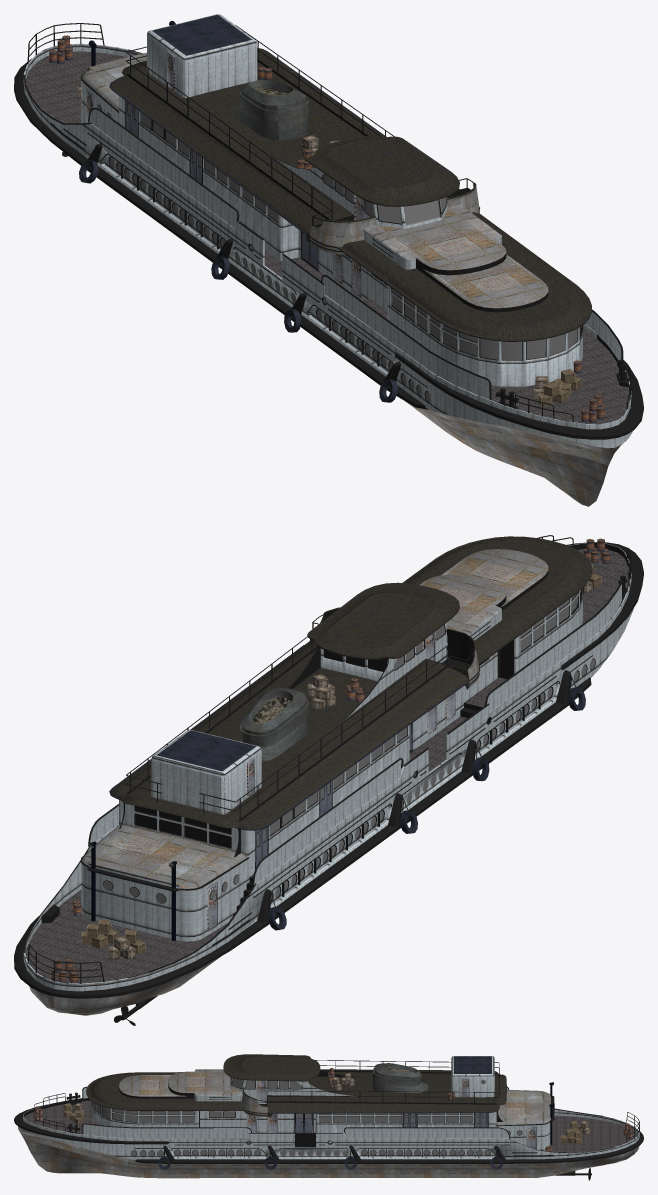
Rendered from Ship_2.FBX.
3 views of the same model, one above another, from view 1: azimuth 30°, elevation 25°; view 2: azimuth 150°, elevation 25°; view 3: azimuth 270°, elevation 25° (orthographic). The views are drawn at different scales.
Visible parts, largest first — view 1: Body; view 2: Body; view 3: Body.
Part boxes in pixels (x1,y1,x2,y2): Body: (14, 14, 643, 506); Body: (14, 535, 643, 1025); Body: (14, 1054, 643, 1180).
Bounding box in the file's own units: 225 × 209 × 1095.
Materials: 10 (10 with a texture image).
